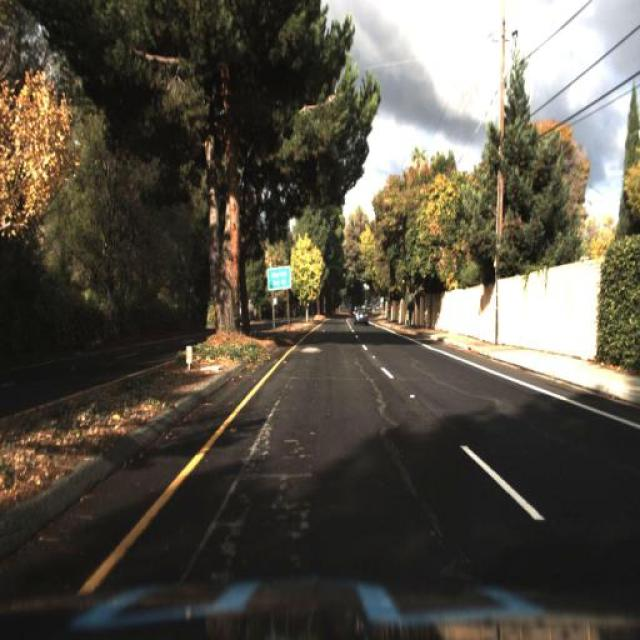car: (354, 308, 368, 326)
trafficLight: (407, 296, 415, 328)
